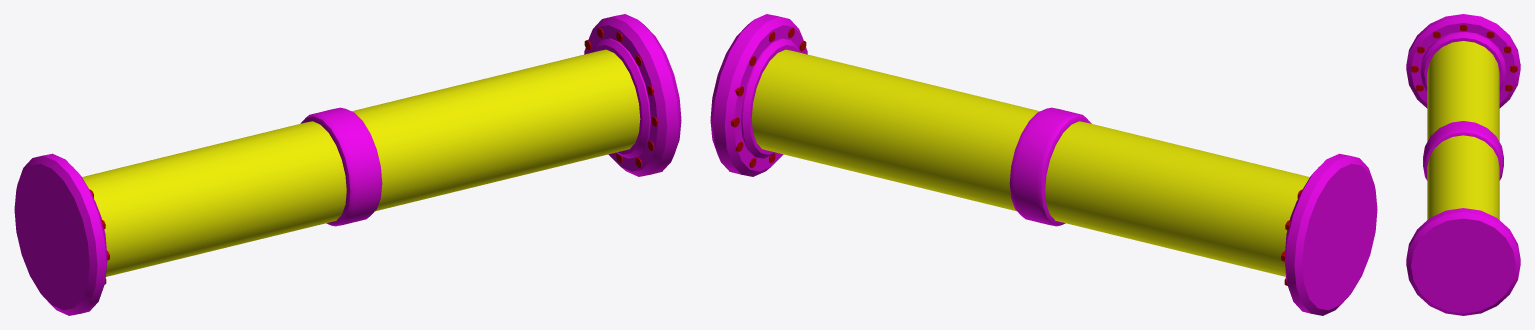
The model's file is SmallPipe.fbx.
3 views of the same model, side by side, from view 1: azimuth 30°, elevation 25°; view 2: azimuth 150°, elevation 25°; view 3: azimuth 270°, elevation 25° (orthographic). The views are drawn at different scales.
Parts seen in each view (by area): view 1: Pipe, Outer1, Outer, Grip, Inner; view 2: Pipe, Outer1, Outer, Grip, Inner; view 3: Pipe, Outer, Outer1, Grip, Inner1.
Boxes of the visible parts, left/top/right/bottom form: Pipe: left=82, top=49, right=640, bottom=276; Outer1: left=14, top=153, right=107, bottom=315; Outer: left=584, top=14, right=681, bottom=176; Grip: left=300, top=107, right=382, bottom=226; Inner: left=592, top=38, right=650, bottom=158; Pipe: left=751, top=49, right=1309, bottom=276; Outer1: left=1284, top=153, right=1377, bottom=315; Outer: left=710, top=14, right=807, bottom=176; Grip: left=1009, top=107, right=1091, bottom=226; Inner: left=741, top=38, right=799, bottom=158; Pipe: left=1427, top=41, right=1499, bottom=219; Outer: left=1406, top=208, right=1520, bottom=315; Outer1: left=1406, top=14, right=1520, bottom=108; Grip: left=1423, top=121, right=1503, bottom=180; Inner1: left=1420, top=31, right=1506, bottom=91.
Size of the model in its own units: 165 by 39.6 by 39.6.
